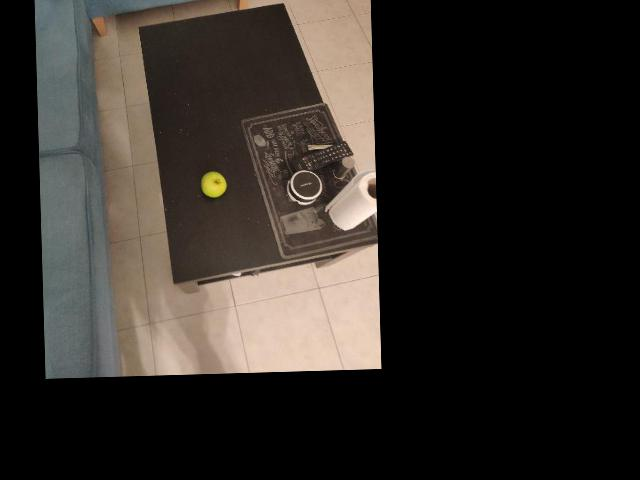apple: (268, 57, 350, 119)
